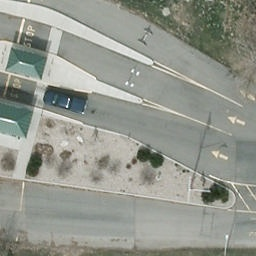car: (43, 90, 89, 116)
